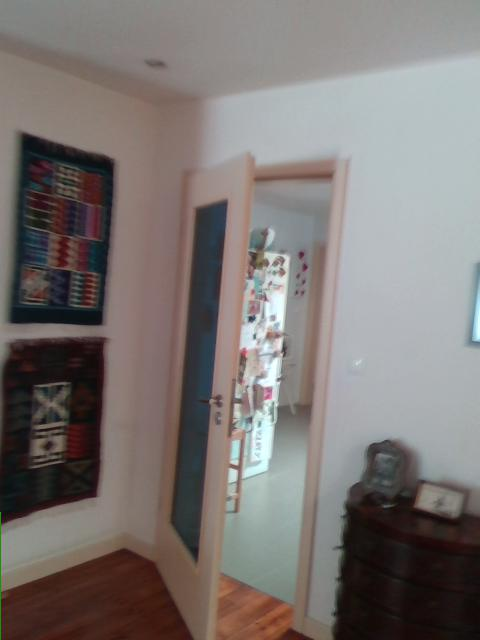semi_door: (151, 143, 351, 639)
